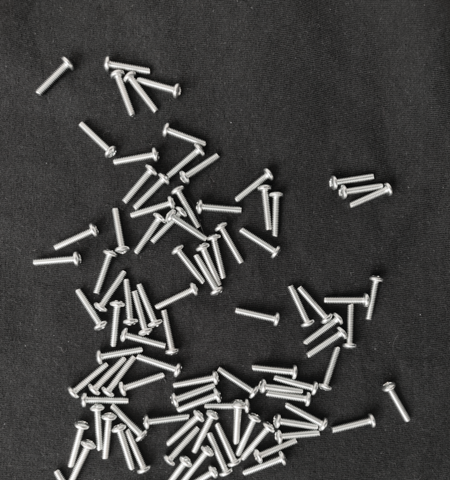longscrew: (34, 55, 76, 99), (87, 356, 129, 397), (77, 120, 120, 160), (67, 362, 111, 401), (123, 71, 161, 116), (162, 426, 202, 468), (101, 355, 138, 400), (93, 268, 129, 314), (148, 206, 188, 247), (164, 410, 205, 450), (73, 287, 109, 332), (131, 173, 171, 213), (165, 143, 206, 182), (120, 165, 158, 207), (239, 421, 276, 464), (381, 379, 414, 427), (164, 209, 209, 244), (133, 212, 167, 258), (234, 167, 275, 205), (109, 405, 149, 443), (215, 367, 261, 400), (214, 221, 247, 267), (171, 244, 207, 286), (109, 68, 138, 120), (305, 327, 349, 361), (238, 227, 283, 260), (193, 253, 226, 298), (297, 285, 334, 325), (171, 185, 203, 231), (52, 223, 101, 253), (178, 152, 222, 185), (134, 283, 164, 331), (302, 314, 344, 348), (214, 421, 244, 468), (286, 285, 317, 330), (124, 428, 153, 476), (206, 431, 235, 479), (161, 122, 210, 150), (242, 451, 289, 480), (348, 183, 395, 212), (195, 242, 224, 289), (191, 409, 220, 456), (175, 388, 223, 416), (153, 284, 199, 313), (92, 247, 118, 298), (283, 403, 330, 431), (235, 412, 263, 459), (317, 346, 344, 394), (169, 383, 217, 410), (128, 196, 177, 222), (252, 439, 299, 466), (135, 76, 185, 101), (135, 353, 185, 378), (67, 439, 97, 480), (112, 424, 137, 473), (67, 419, 91, 470), (178, 446, 214, 480), (118, 373, 166, 398), (329, 413, 378, 437), (119, 328, 168, 352), (110, 206, 133, 256), (131, 291, 155, 338), (233, 307, 284, 329), (205, 233, 228, 281), (112, 146, 162, 168), (272, 375, 321, 397), (102, 56, 153, 77), (365, 274, 386, 324), (94, 346, 145, 366), (160, 309, 181, 357), (31, 250, 84, 269), (108, 298, 127, 351), (171, 371, 221, 391), (329, 171, 376, 192), (272, 414, 320, 434), (142, 412, 190, 432), (337, 182, 385, 201), (265, 390, 315, 408), (122, 278, 140, 328), (274, 428, 321, 447), (157, 456, 193, 480), (257, 184, 274, 234), (195, 200, 245, 217), (80, 393, 130, 410), (100, 413, 117, 463), (251, 364, 300, 381), (343, 302, 360, 351), (269, 190, 286, 239), (203, 399, 253, 415), (323, 293, 373, 309), (89, 404, 105, 454), (258, 379, 305, 396), (231, 399, 247, 447), (174, 466, 219, 480), (51, 468, 86, 480)
